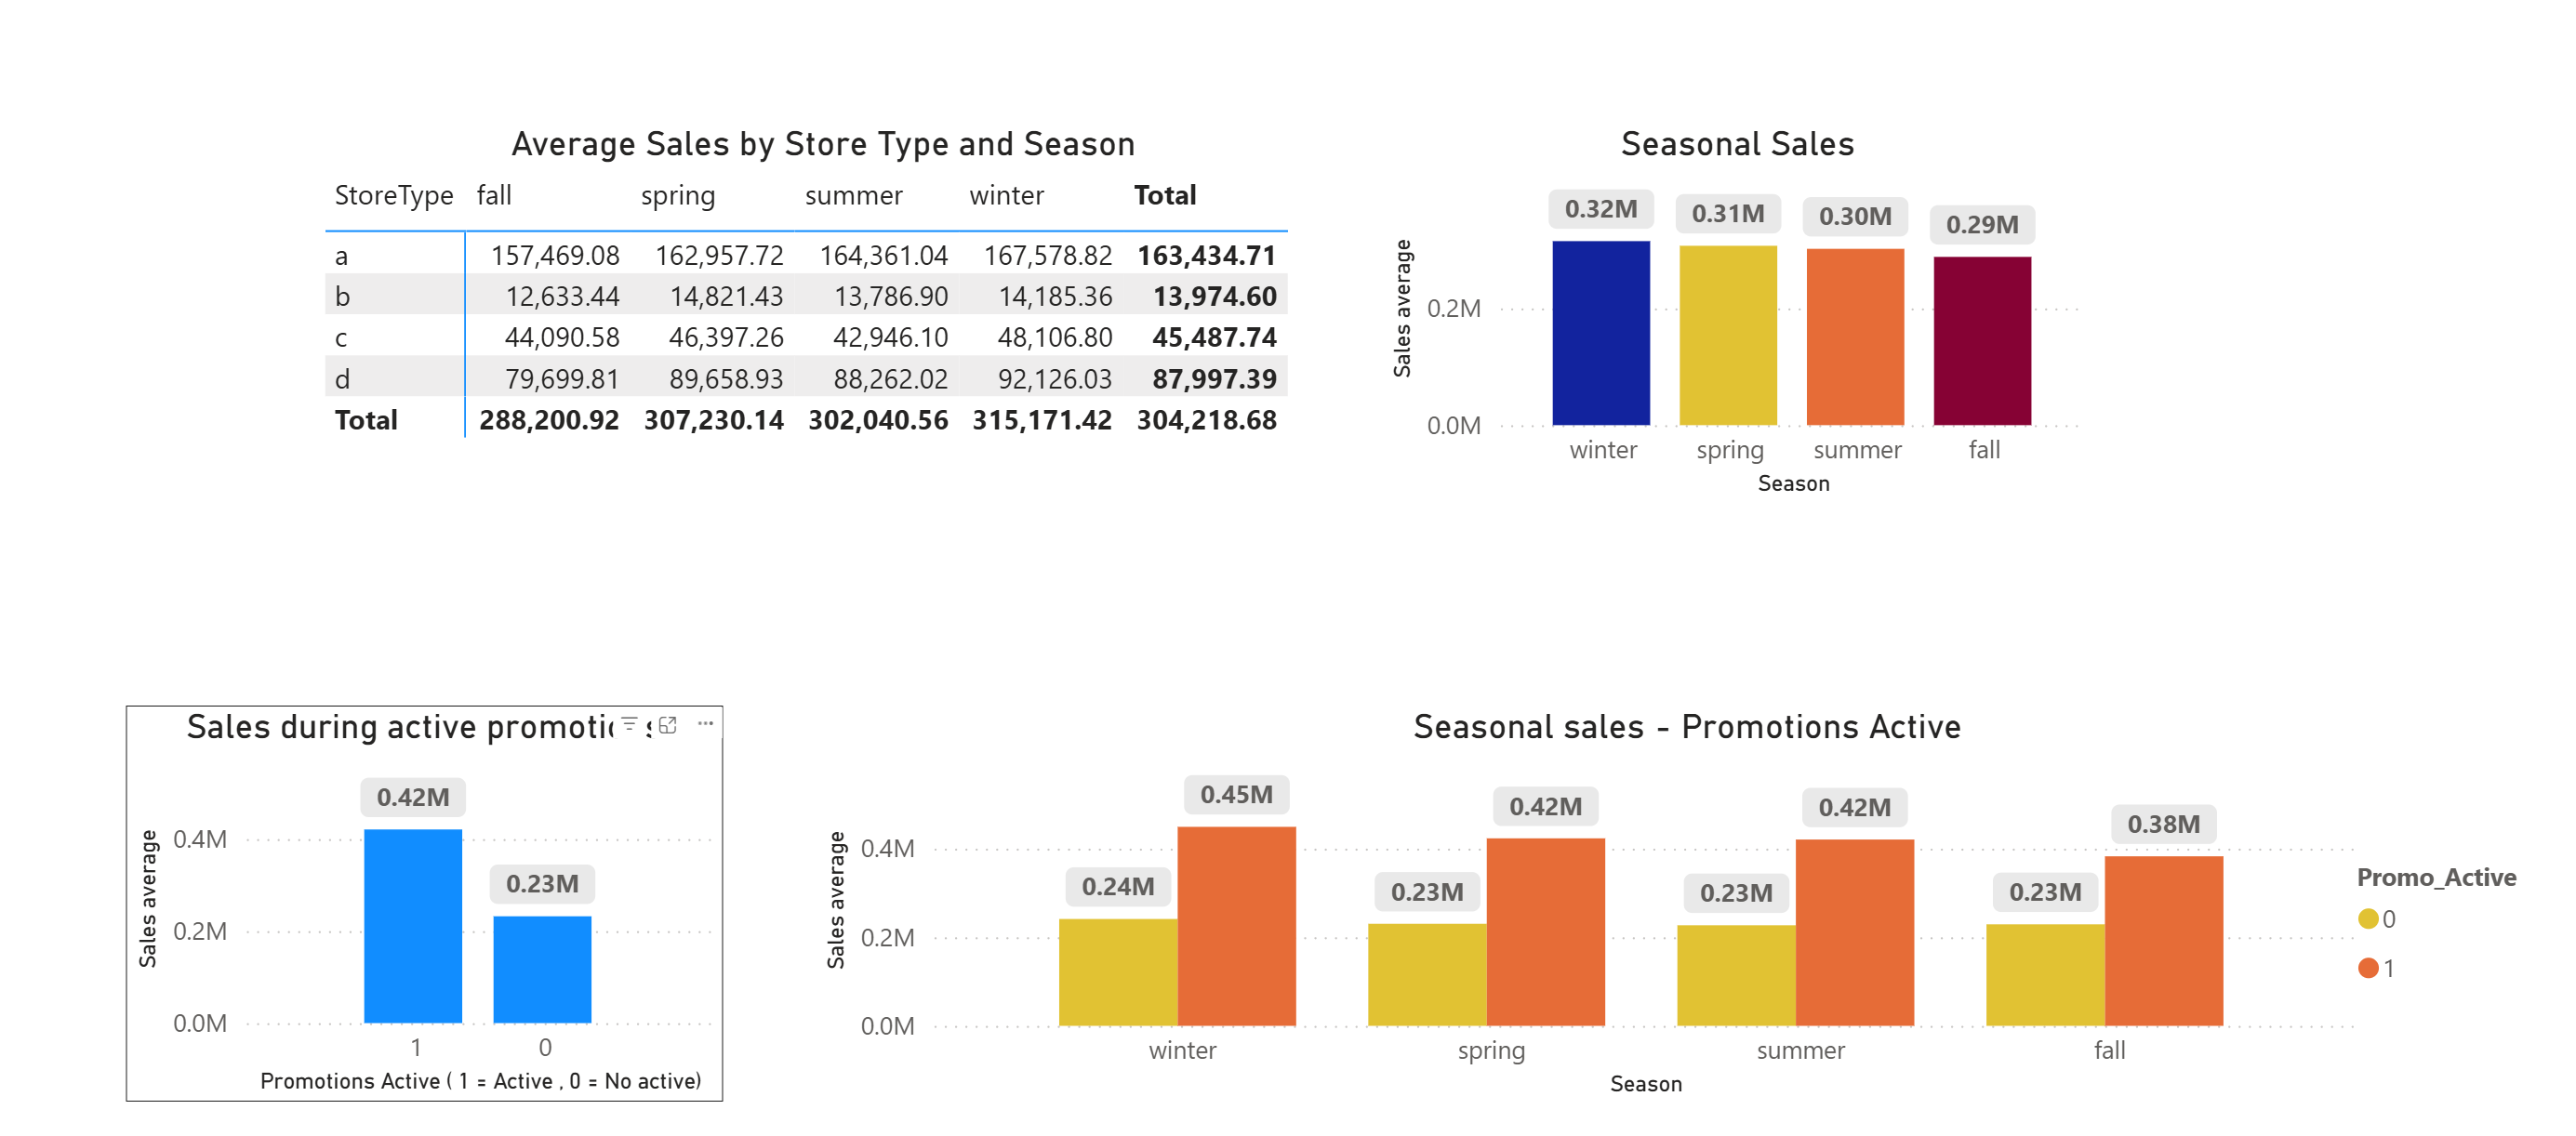

The page's visual inventory and layout, read from the dashboard file:
{"tool":"powerbi","page":{"name":"Seasonal","canvas":[1280,720],"ordinal":1},"visuals":[{"type":"clusteredColumnChart","title":"Sales during active promotions","fields":{"Category":["train_features_enriched.Promo_Active"],"Y":["train_features_enriched.Average_daily_sales"]},"box":[79.3,478,290.7,193.3],"z":0},{"type":"clusteredColumnChart","title":"Seasonal Sales","fields":{"Category":["train_features_enriched.Season"],"Y":["train_features_enriched.Average_daily_sales"]},"box":[690,194,348.7,186],"z":1000},{"type":"clusteredColumnChart","title":"Seasonal sales - Promotions Active","fields":{"Category":["train_features_enriched.Season"],"Series":["train_features_enriched.Promo_Active"],"Y":["train_features_enriched.Average_daily_sales"]},"box":[414.7,478,851.3,194.7],"z":2000},{"type":"pivotTable","title":"Average Sales by Store Type and Season","fields":{"Rows":["store.StoreType"],"Columns":["train_features_enriched.Season"],"Values":["train_features_enriched.Average_daily_sales"]},"box":[171.3,194,496,186],"z":3000},{"type":"image","box":[0,0,307.3,120.7],"z":5000}]}

Visuals, with their boxes on the page's 1280x720 design canvas (x1, y1, x2, y2). These are canvas units, not pixel positions in the 2576x1136 screenshot, which may show the page scaled, cropped or inside an application window:
"Sales during active promotions" clusteredColumnChart: select_region(79, 478, 370, 671)
"Seasonal Sales" clusteredColumnChart: select_region(690, 194, 1039, 380)
"Seasonal sales - Promotions Active" clusteredColumnChart: select_region(415, 478, 1266, 673)
"Average Sales by Store Type and Season" pivotTable: select_region(171, 194, 667, 380)
image: select_region(0, 0, 307, 121)
